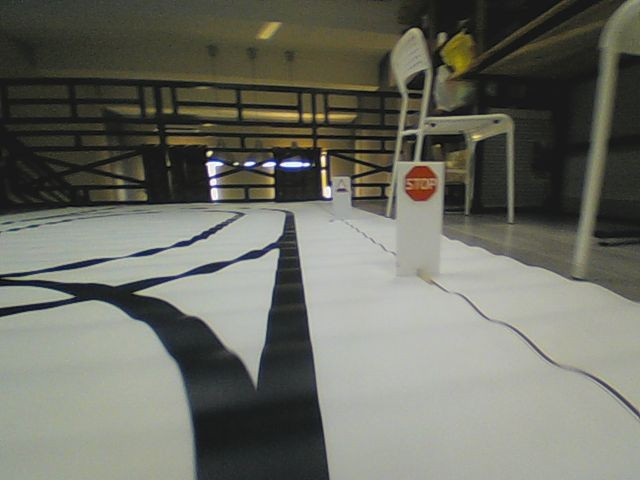Stop: (403, 164, 438, 202)
